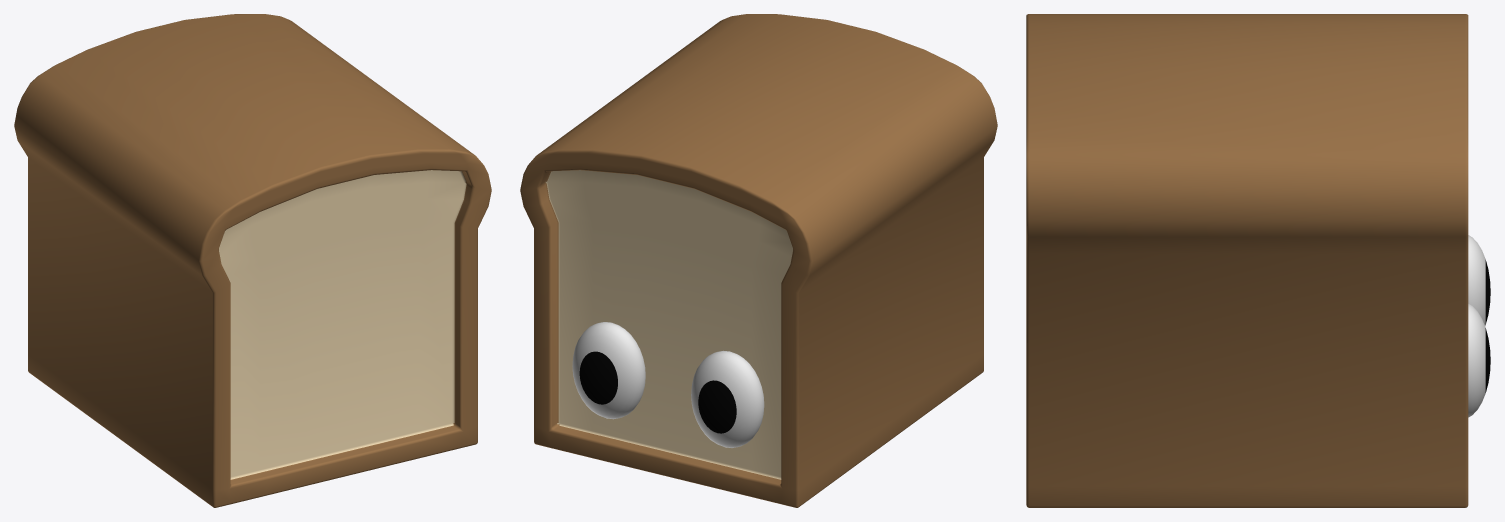
The model's file is CHLEB.fbx.
3 renders of one model, left to right at view 1: azimuth 30°, elevation 25°; view 2: azimuth 150°, elevation 25°; view 3: azimuth 270°, elevation 25°, orthographic. The views are drawn at different scales.
Visible parts, largest first — view 1: Cube.001; view 2: Cube.001, Sphere.001; view 3: Cube.001, Sphere.001.
Boxes of the visible parts, x1,y1,x2,y2 form: Cube.001: (14,14,491,507); Cube.001: (520,14,997,507); Sphere.001: (572,322,764,447); Cube.001: (1026,14,1468,507); Sphere.001: (1468,235,1490,417).
Size of the model in its own units: 256 by 297 by 263.
